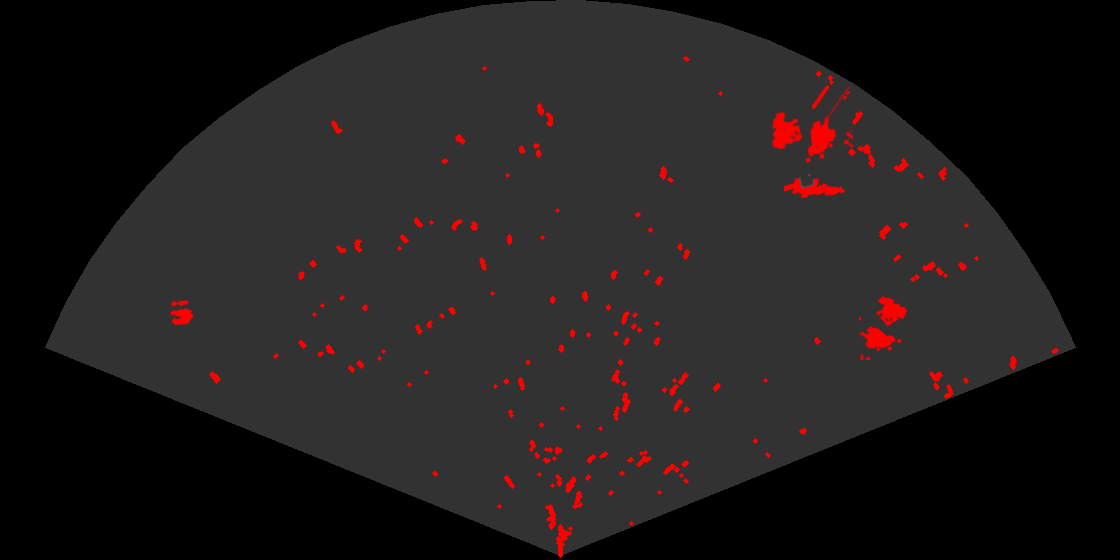ball: (168, 299, 195, 327)
cage: (770, 87, 853, 165), (859, 294, 909, 360)
frogman: (784, 172, 846, 200)
